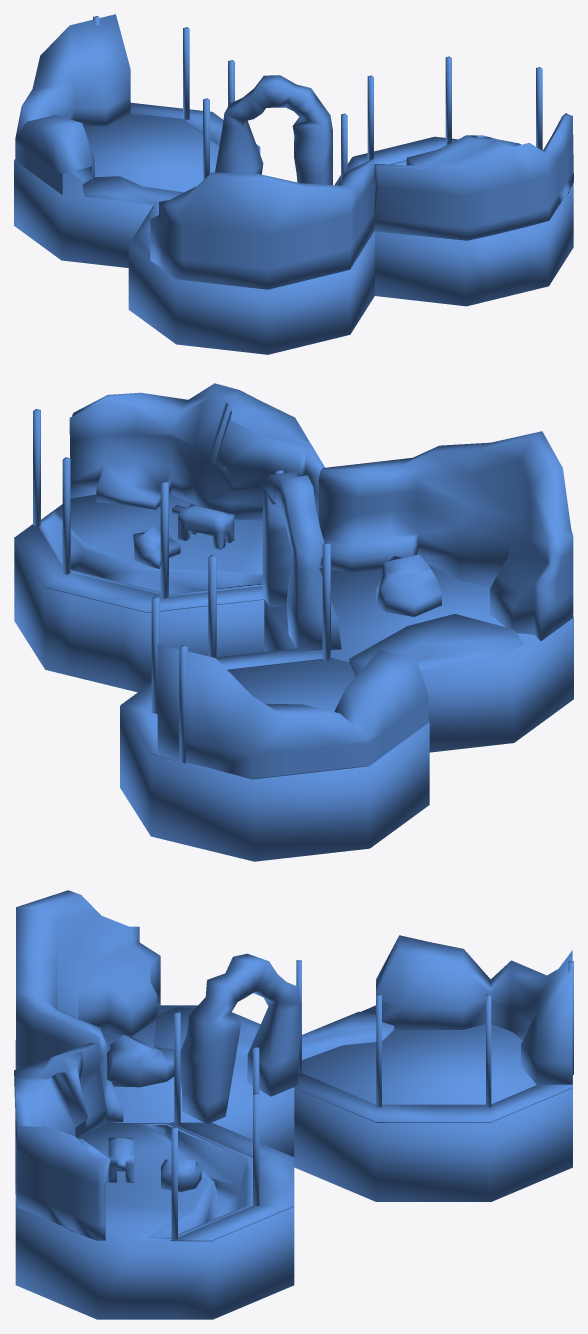
Rendered from Zoo_PolarBearEnclosure.fbx.
The picture shows the model from 3 angles, top to bottom: view 1: azimuth 30°, elevation 25°; view 2: azimuth 150°, elevation 25°; view 3: azimuth 270°, elevation 25°; orthographic projection. The views are drawn at different scales.
Parts seen in each view (by area): view 1: Zoo_PolarBearEnclosure; view 2: Zoo_PolarBearEnclosure; view 3: Zoo_PolarBearEnclosure.
Boxes of the visible parts, left/top/right/bottom form: Zoo_PolarBearEnclosure: left=14, top=14, right=573, bottom=354; Zoo_PolarBearEnclosure: left=14, top=383, right=573, bottom=861; Zoo_PolarBearEnclosure: left=14, top=890, right=573, bottom=1319.
Size of the model in its own units: 1262 by 548 by 1266.
